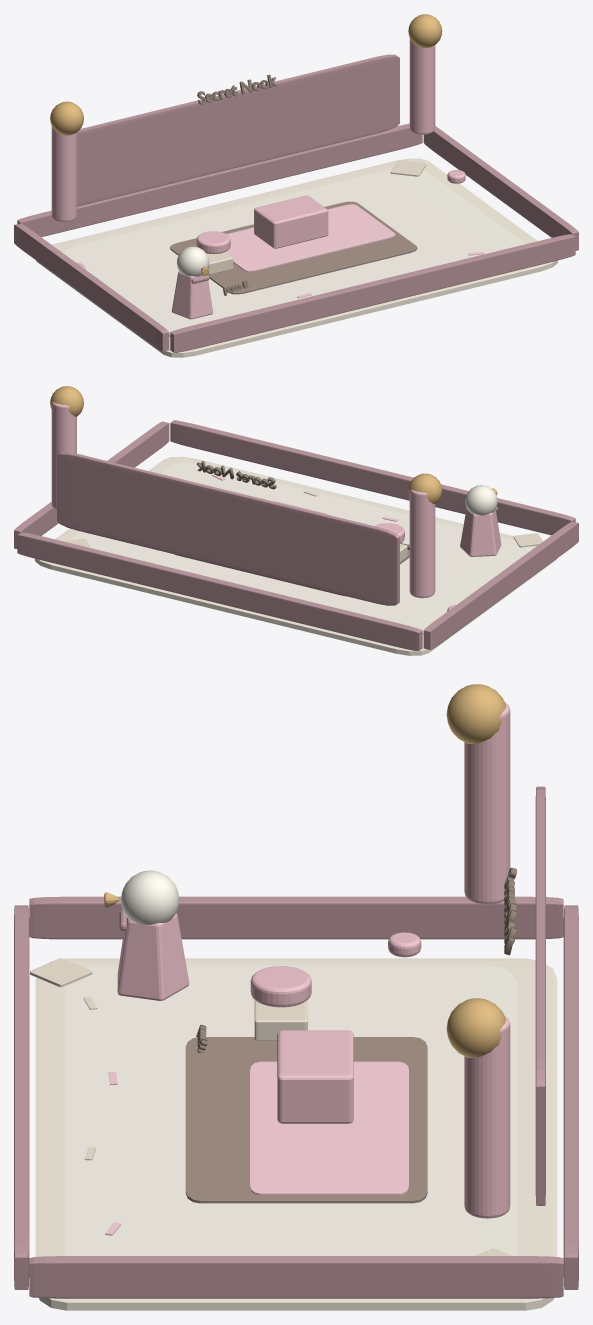
File: 11_sub_scenes.glb
The picture shows the model from 3 angles, top to bottom: view 1: azimuth 30°, elevation 25°; view 2: azimuth 150°, elevation 25°; view 3: azimuth 270°, elevation 25°; orthographic projection. The views are drawn at different scales.
Parts seen in each view (by area): view 1: BackCard, FloorLayerInset, SouthRail-col, NorthRail-col, PaperFloor-col, StageMatHighlight, StageMat, WestRail-col, EastRail-col, SecretNook, PaperLantern.001, FpeRushPlayer (+7 smaller); view 2: BackCard, FloorLayerInset, NorthRail-col, SouthRail-col, PaperFloor-col, WestRail-col, PaperLantern, FpeRushPlayer, EastRail-col, PaperLantern.001, TitleLabel, LanternGlow.001 (+1 smaller); view 3: FloorLayerInset, PaperFloor-col, EastRail-col, WestRail-col, StageMat, StageMatHighlight, PaperLantern.001, PaperLantern, FpeRushPlayer, SecretNook, NorthRail-col, SouthRail-col (+7 smaller).
Part boxes in pixels (box(x1,y1,x2,y2)): BackCard: box(77, 54, 399, 206); FloorLayerInset: box(62, 168, 525, 336); SouthRail-col: box(170, 234, 575, 352); NorthRail-col: box(17, 123, 422, 236); PaperFloor-col: box(36, 158, 557, 357); StageMatHighlight: box(225, 204, 395, 271); StageMat: box(170, 201, 417, 294); WestRail-col: box(14, 223, 169, 351); EastRail-col: box(423, 126, 578, 250); SecretNook: box(254, 195, 328, 248); PaperLantern.001: box(409, 38, 435, 134); FpeRushPlayer: box(171, 246, 212, 319); BackCard: box(57, 452, 399, 605); FloorLayerInset: box(70, 462, 533, 634); NorthRail-col: box(17, 532, 422, 650); SouthRail-col: box(170, 420, 575, 535); PaperFloor-col: box(35, 456, 556, 655); WestRail-col: box(423, 521, 578, 649); PaperLantern: box(409, 489, 435, 598); FpeRushPlayer: box(460, 485, 501, 556); EastRail-col: box(14, 421, 169, 548); PaperLantern.001: box(51, 402, 76, 509); TitleLabel: box(196, 461, 276, 489); LanternGlow.001: box(50, 386, 83, 416); FloorLayerInset: box(65, 965, 517, 1255); PaperFloor-col: box(35, 958, 557, 1310); EastRail-col: box(29, 1256, 563, 1298); WestRail-col: box(29, 896, 563, 939); StageMat: box(185, 1037, 427, 1203); StageMatHighlight: box(250, 1061, 408, 1195); PaperLantern.001: box(464, 1016, 510, 1218); PaperLantern: box(464, 702, 510, 904); FpeRushPlayer: box(104, 870, 189, 1000); SecretNook: box(277, 1030, 353, 1123); NorthRail-col: box(563, 905, 578, 1289); SouthRail-col: box(14, 905, 29, 1289).
Size of the model in its own units: 6.8 by 2.56 by 4.44.
